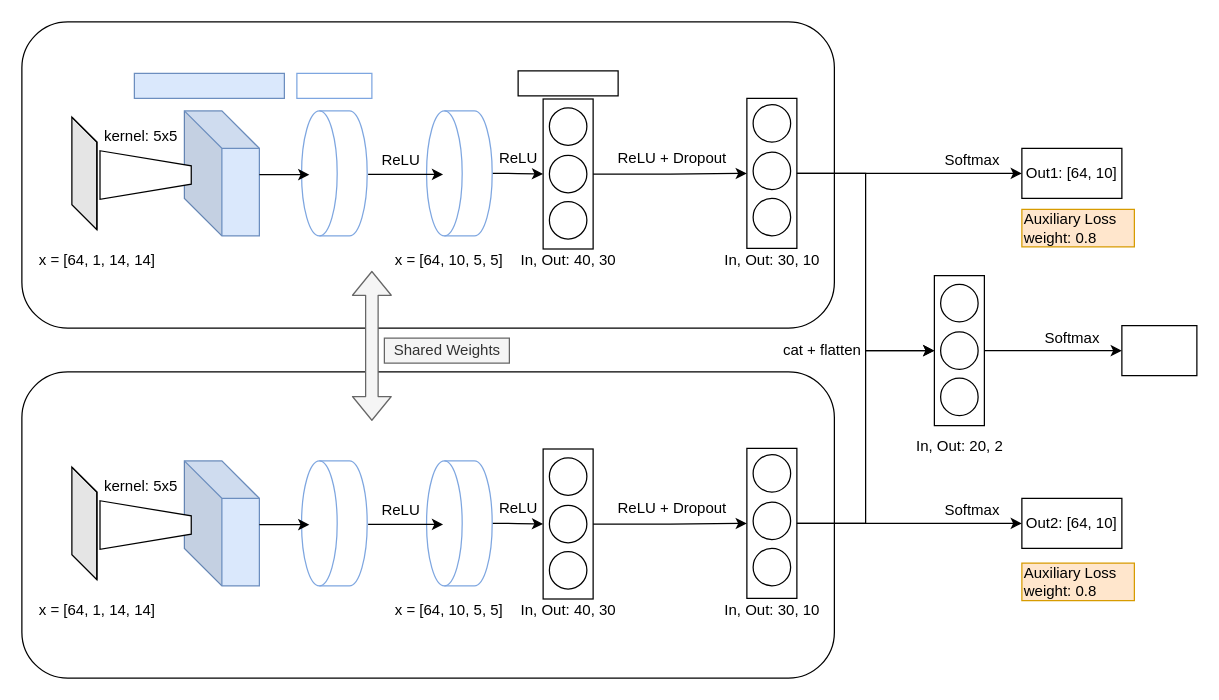
The diagram is 1219 pixels wide and 700 high, and some of its shapes have lost their labels. Each missing label, with the box of its shape:
Convolutional Layer: (133, 72, 284, 98)
Linear Layer: (517, 70, 618, 96)
MaxPool: (296, 72, 372, 98)
Out: [2,1]: (1121, 324, 1197, 376)
